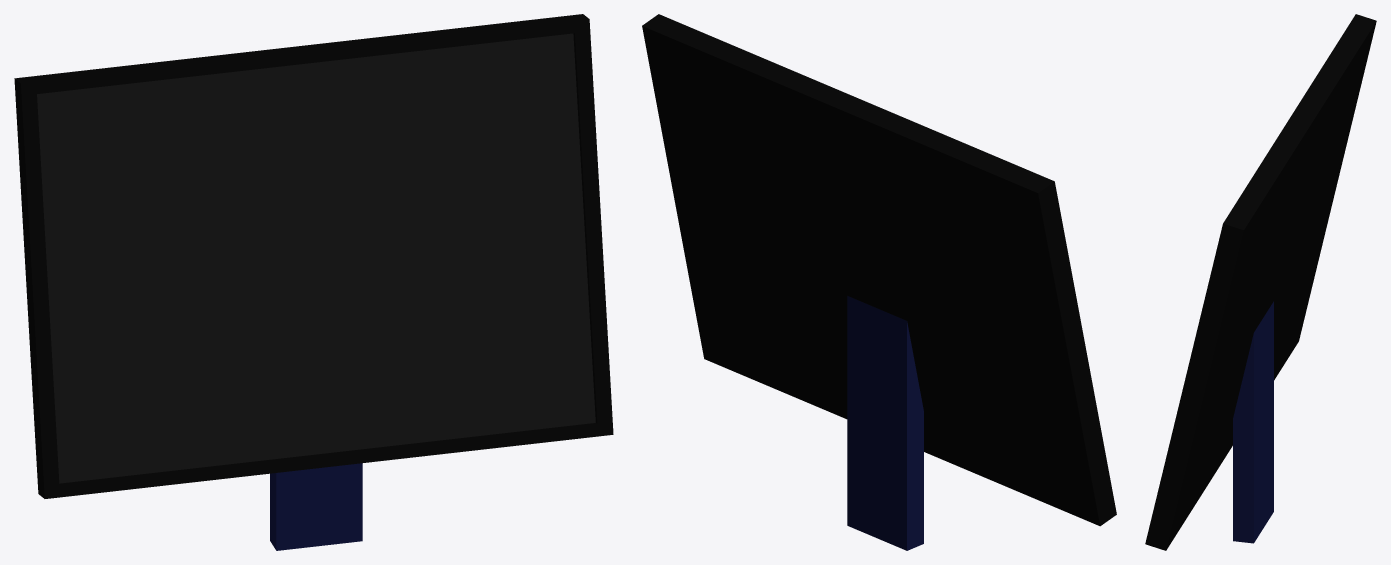
Rendered from screen.glb.
3 renders of one model, left to right at view 1: azimuth 30°, elevation 25°; view 2: azimuth 150°, elevation 25°; view 3: azimuth 270°, elevation 25°, orthographic. The views are drawn at different scales.
Parts seen in each view (by area): view 1: screen; view 2: screen; view 3: screen.
Part boxes in pixels (x1=…): screen: x1=14, y1=14, x2=613, y2=550; screen: x1=642, y1=14, x2=1116, y2=550; screen: x1=1145, y1=14, x2=1376, y2=550.
Size of the model in its own units: 0.4706 by 0.4093 by 0.2087.
